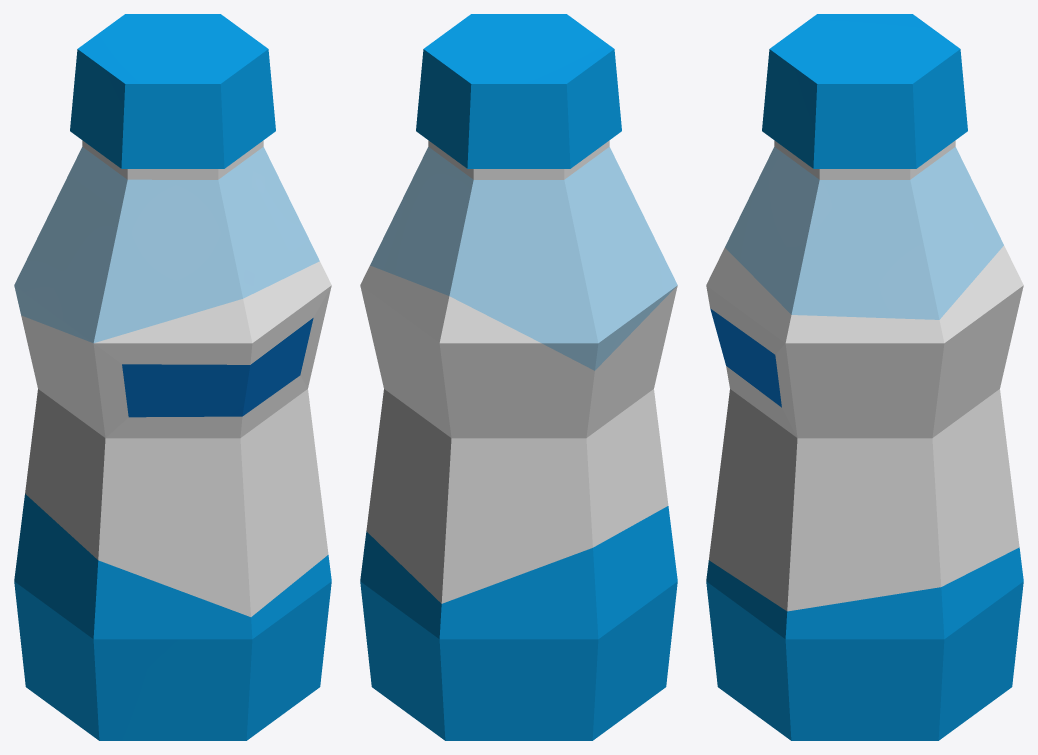
File: yogurt_001.obj
The picture shows the model from 3 angles, left to right: view 1: azimuth 30°, elevation 25°; view 2: azimuth 150°, elevation 25°; view 3: azimuth 270°, elevation 25°; orthographic projection.
Parts seen in each view (by area): view 1: yogurt_001; view 2: yogurt_001; view 3: yogurt_001.
Part boxes in pixels (x1=…): yogurt_001: x1=14, y1=14, x2=331, y2=740; yogurt_001: x1=360, y1=14, x2=677, y2=740; yogurt_001: x1=706, y1=14, x2=1023, y2=740.
Bounding box in the file's own units: 0.0427 × 0.1094 × 0.0493.
